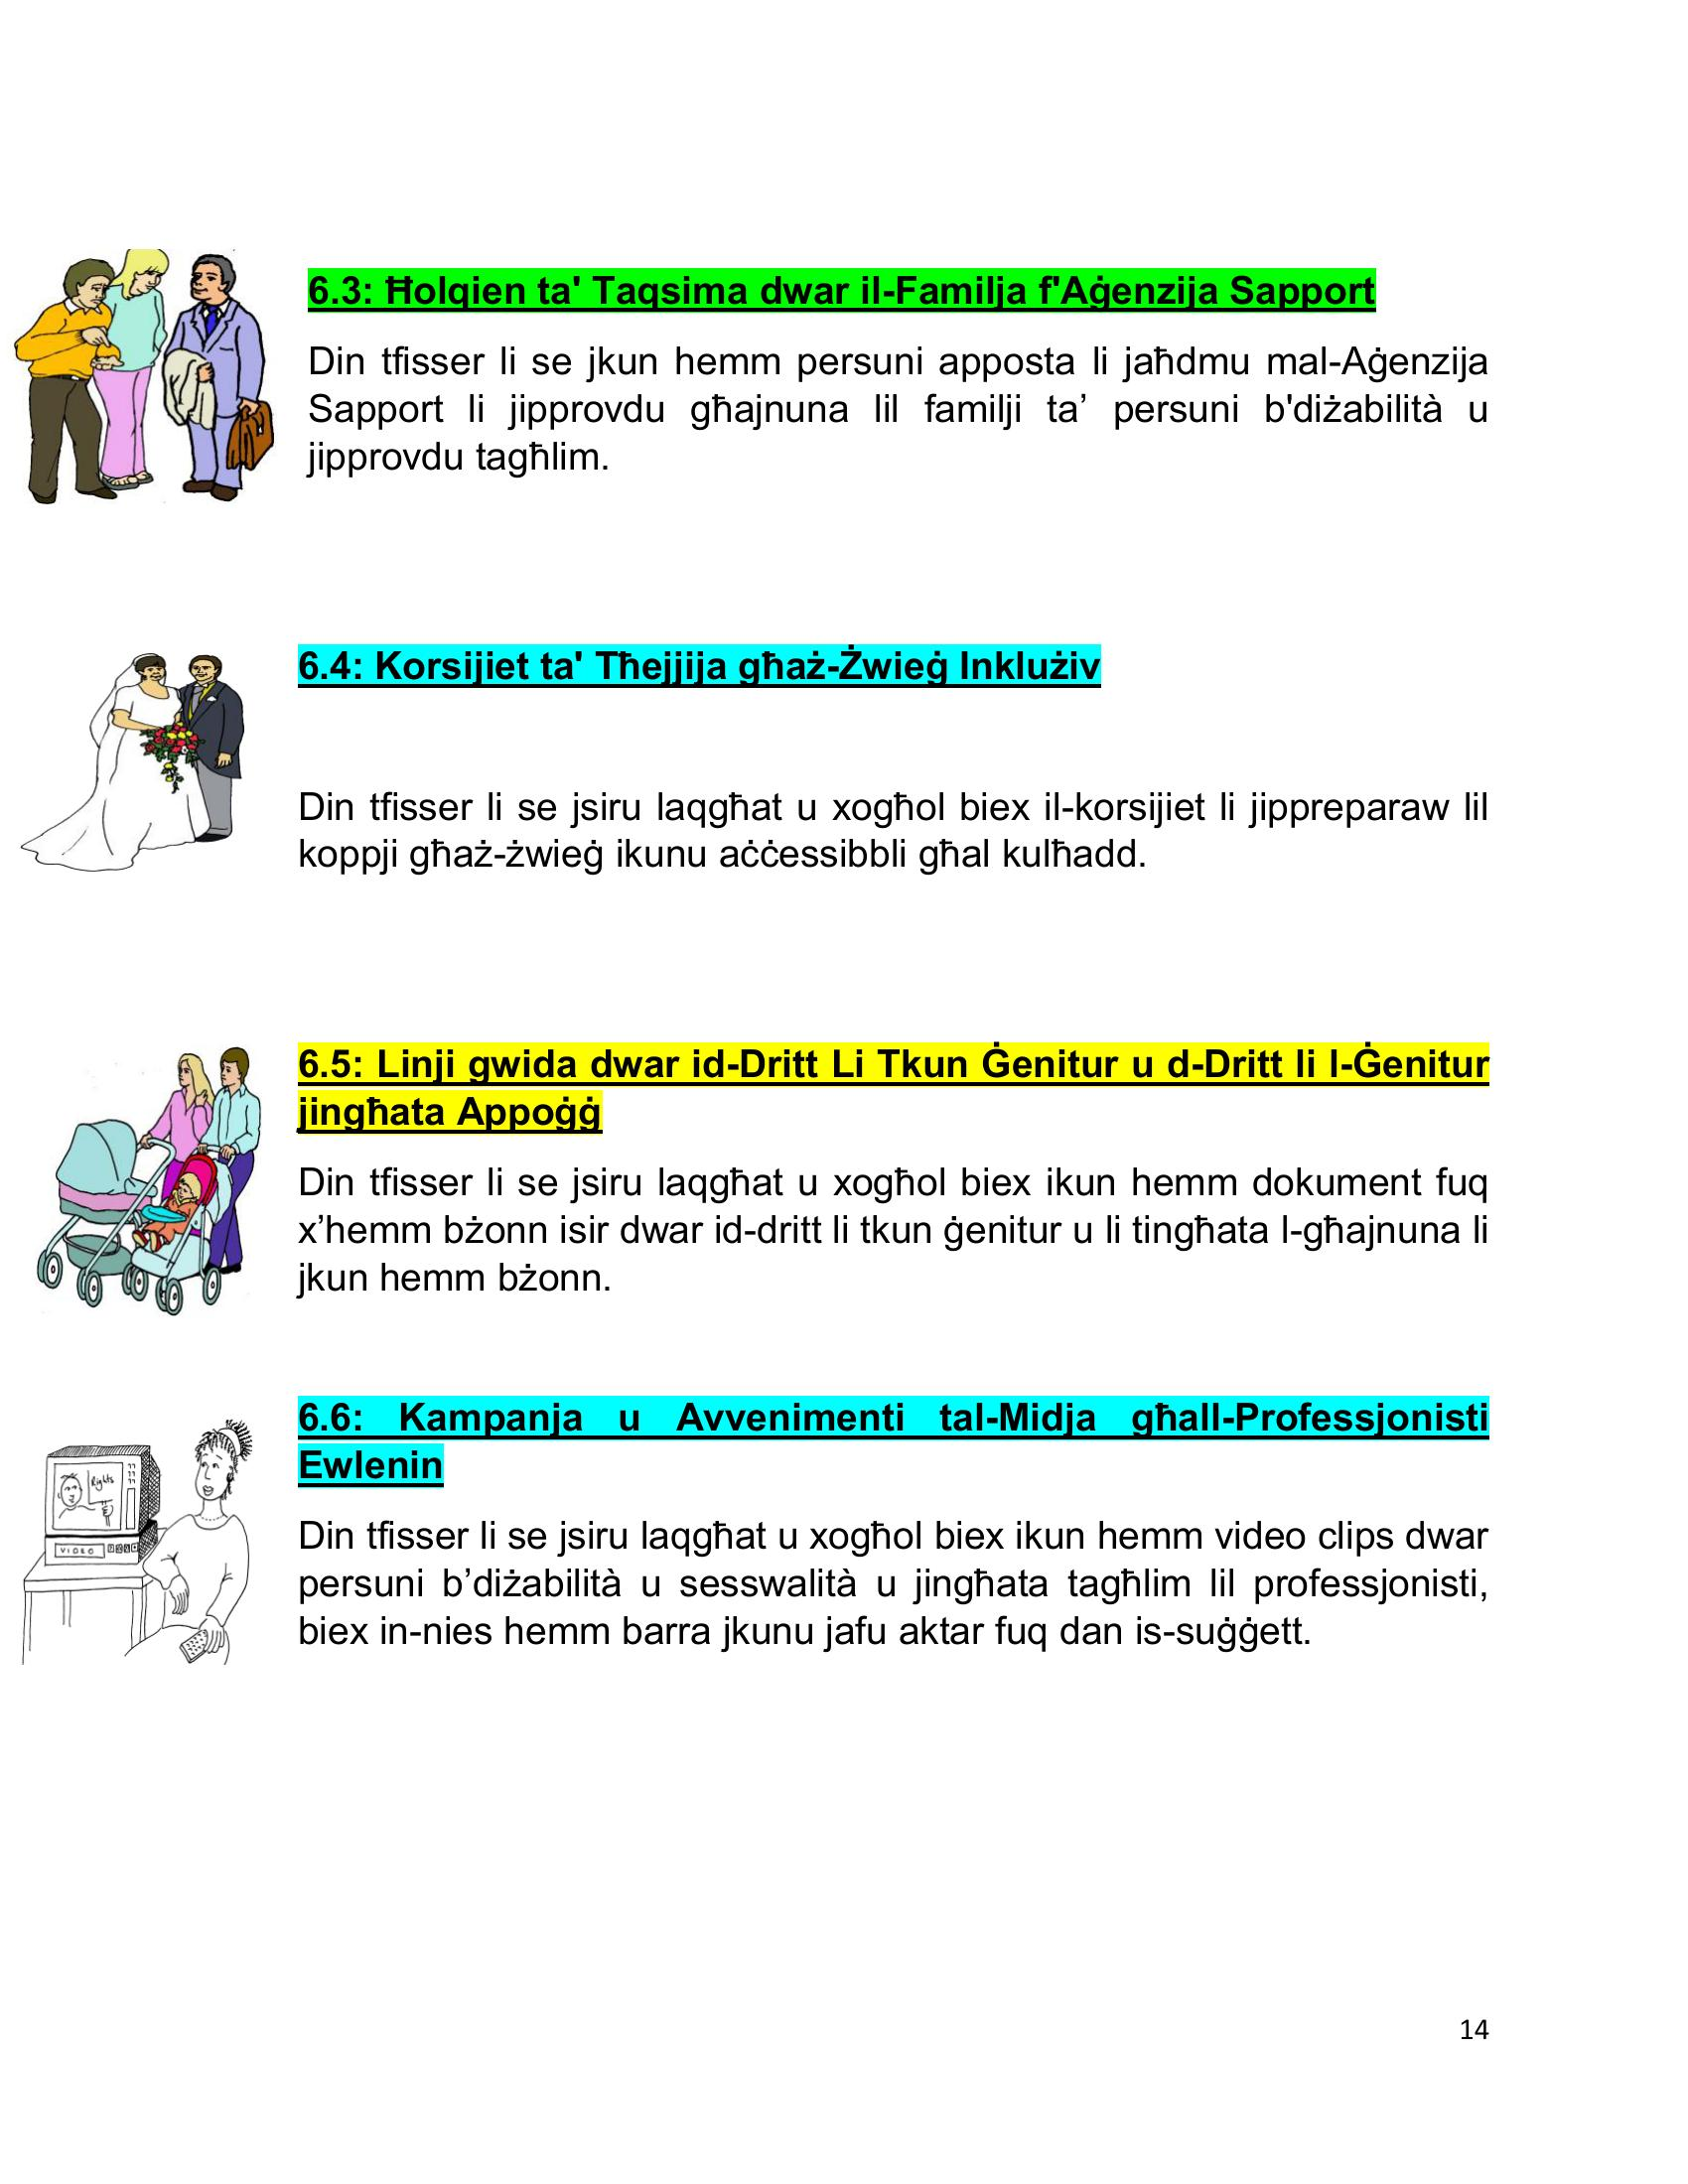text: (280, 245, 1537, 1709)
